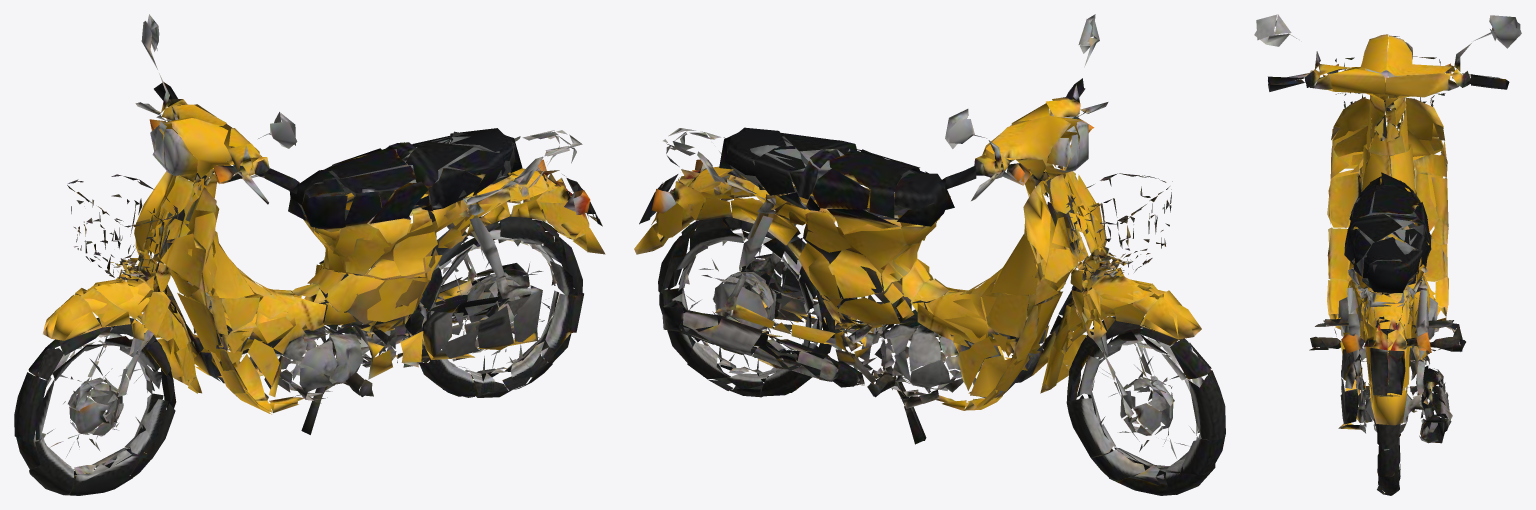
File: scooter.glb
3 renders of one model, left to right at view 1: azimuth 30°, elevation 25°; view 2: azimuth 150°, elevation 25°; view 3: azimuth 270°, elevation 25°, orthographic. The views are drawn at different scales.
Parts seen in each view (by area): view 1: Mesh_0; view 2: Mesh_0; view 3: Mesh_0.
Boxes of the visible parts, x1=… form: Mesh_0: x1=14, y1=14, x2=605, y2=495; Mesh_0: x1=634, y1=14, x2=1225, y2=495; Mesh_0: x1=1254, y1=14, x2=1521, y2=495.
Size of the model in its own units: 1.9 by 1.23 by 0.8489.
1 material, 1 textured.
